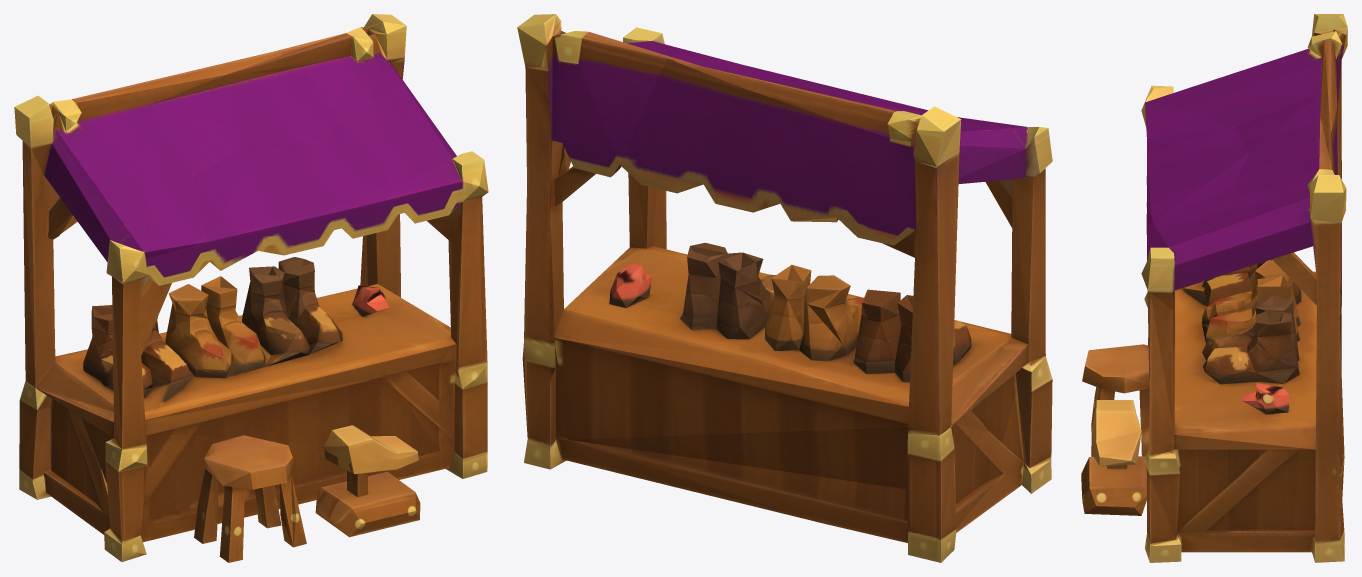
Rendered from TWN_PRP_stall_shoe_A.glb.
The picture shows the model from 3 angles, left to right: view 1: azimuth 30°, elevation 25°; view 2: azimuth 150°, elevation 25°; view 3: azimuth 270°, elevation 25°; orthographic projection. The views are drawn at different scales.
Visible parts, largest first — view 1: Mesh_0; view 2: Mesh_0; view 3: Mesh_0.
Part boxes in pixels (x1=…): Mesh_0: x1=14, y1=14, x2=488, y2=562; Mesh_0: x1=517, y1=14, x2=1052, y2=562; Mesh_0: x1=1081, y1=14, x2=1347, y2=562.
Bounding box in the file's own units: 1.9 × 1.88 × 1.2.
1 material, 1 textured.
